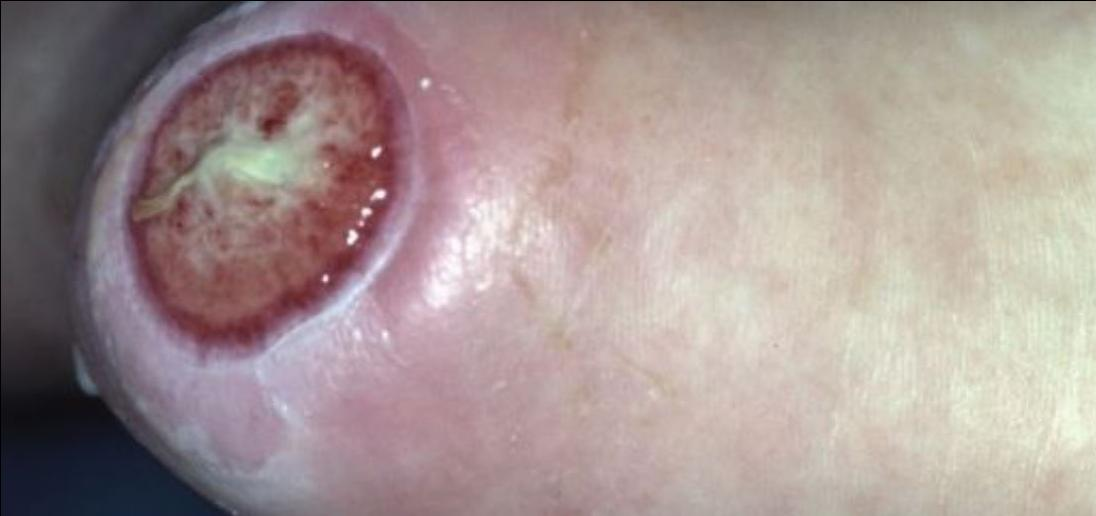Stage4: (126, 0, 454, 384)
